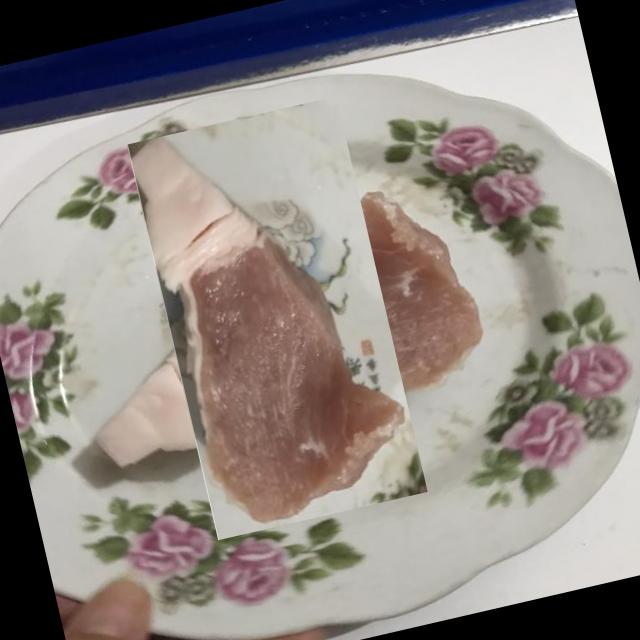chicken: (91, 132, 463, 504)
